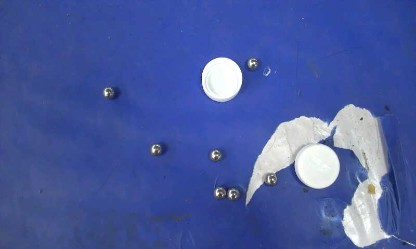ironball: (264, 172, 277, 186), (149, 143, 162, 156), (226, 187, 239, 200), (101, 86, 114, 98), (209, 149, 222, 161), (246, 57, 258, 70), (213, 186, 225, 199)
